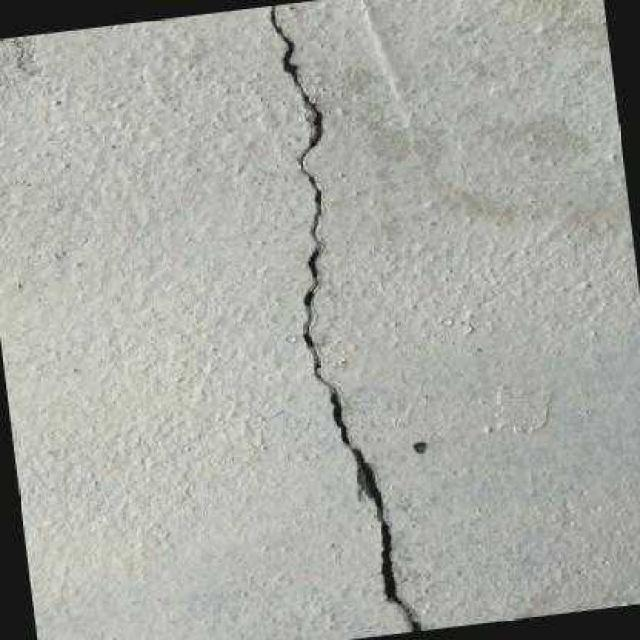D00: (269, 3, 421, 631)
